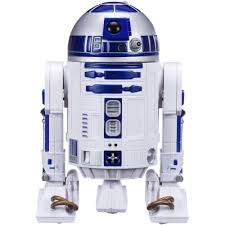r2d2: (36, 2, 189, 223)
